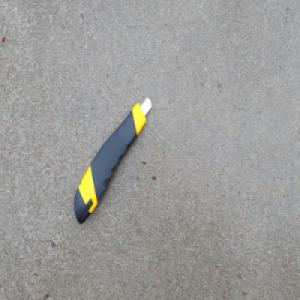Cutter: (72, 95, 152, 225)
